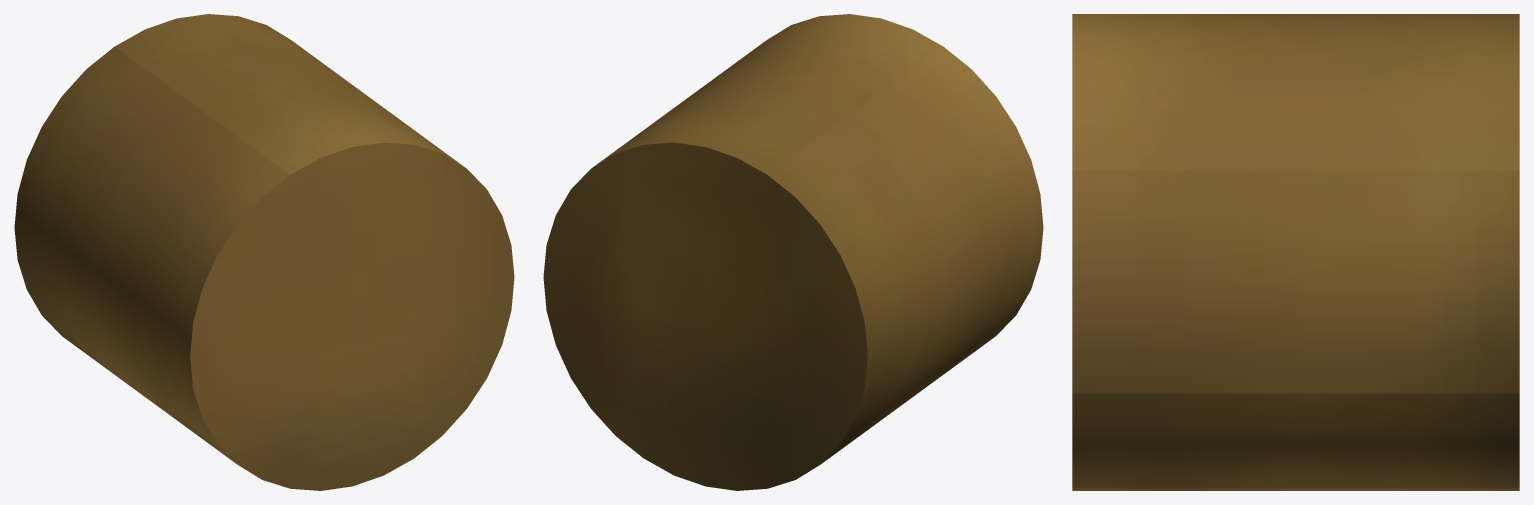
The model's file is body__vane_1_upper_mount.glb.
3 renders of one model, left to right at view 1: azimuth 30°, elevation 25°; view 2: azimuth 150°, elevation 25°; view 3: azimuth 270°, elevation 25°, orthographic. The views are drawn at different scales.
Parts seen in each view (by area): view 1: geometry_0; view 2: geometry_0; view 3: geometry_0.
Boxes of the visible parts, left/top/right/bottom form: geometry_0: left=14, top=14, right=514, bottom=490; geometry_0: left=543, top=14, right=1043, bottom=490; geometry_0: left=1072, top=14, right=1519, bottom=490.
Size of the model in its own units: 0.0064 by 0.0064 by 0.006.
Materials: 1 (1 with a texture image).
